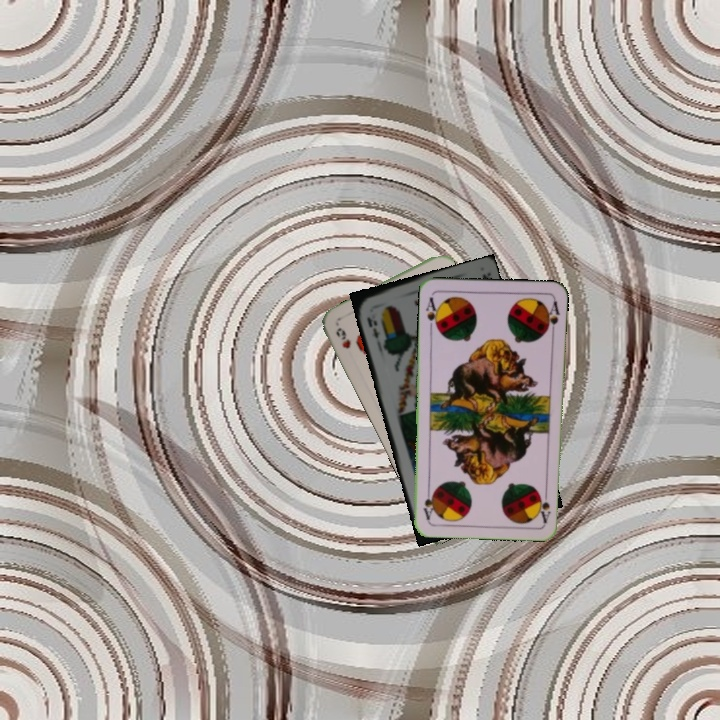EK: (363, 313, 383, 340)
H9: (332, 324, 353, 351)
SA: (422, 293, 442, 333), (536, 484, 553, 525)
